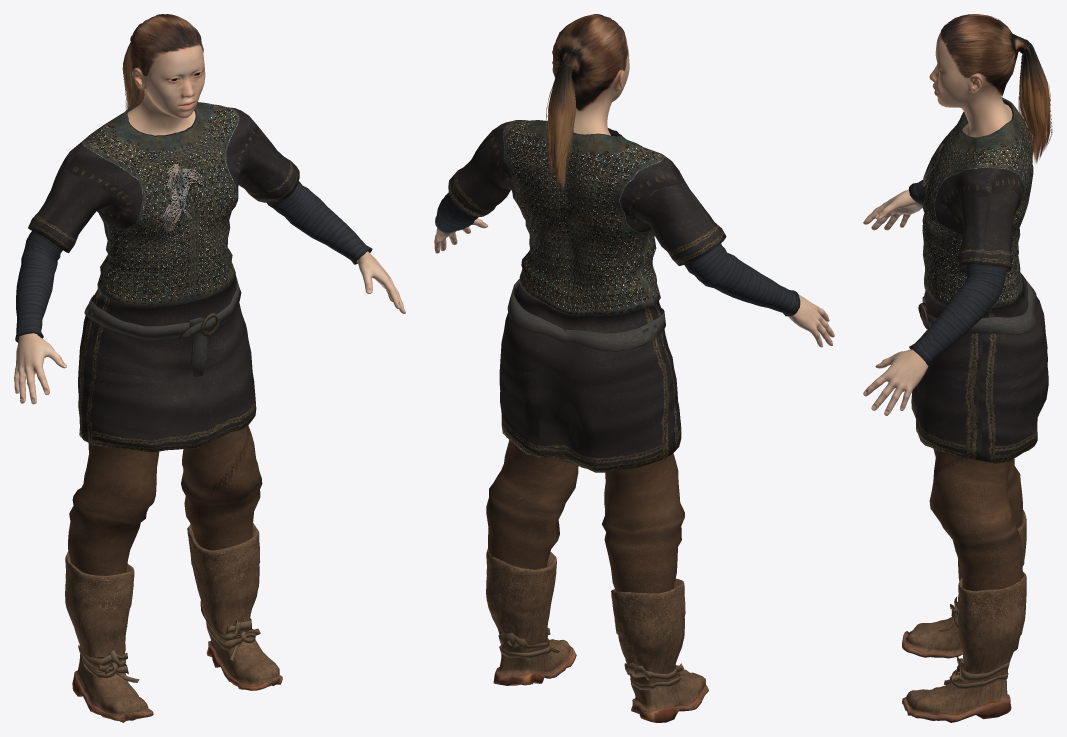
The model's file is control-mara.glb.
The picture shows the model from 3 angles, left to right: view 1: azimuth 30°, elevation 25°; view 2: azimuth 150°, elevation 25°; view 3: azimuth 270°, elevation 25°; orthographic projection. The views are drawn at different scales.
Visible parts, largest first — view 1: control-mara runtime mesh; view 2: control-mara runtime mesh; view 3: control-mara runtime mesh.
Part boxes in pixels (bbox=[...]): control-mara runtime mesh: bbox=[14, 14, 405, 722]; control-mara runtime mesh: bbox=[434, 14, 834, 722]; control-mara runtime mesh: bbox=[863, 14, 1052, 722].
Bounding box in the file's own units: 1.11 × 1.85 × 0.4767.
6 materials, 6 textured.
